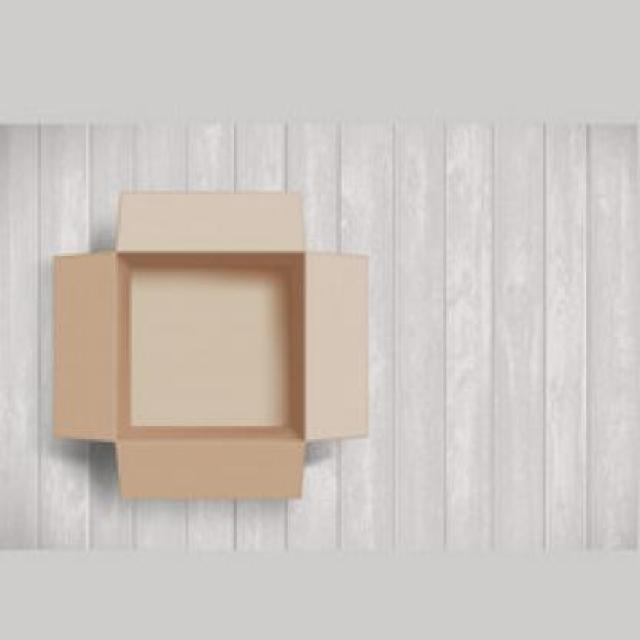box: (43, 176, 412, 517)
